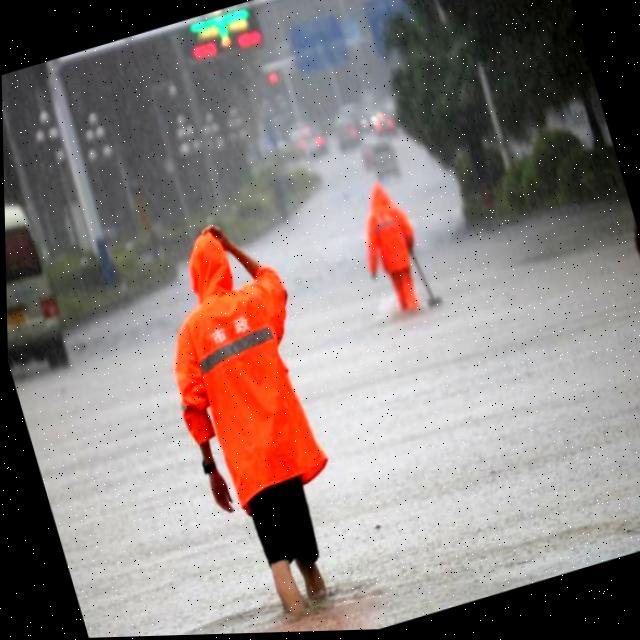rescuer: (122, 185, 382, 637), (343, 175, 444, 329)
